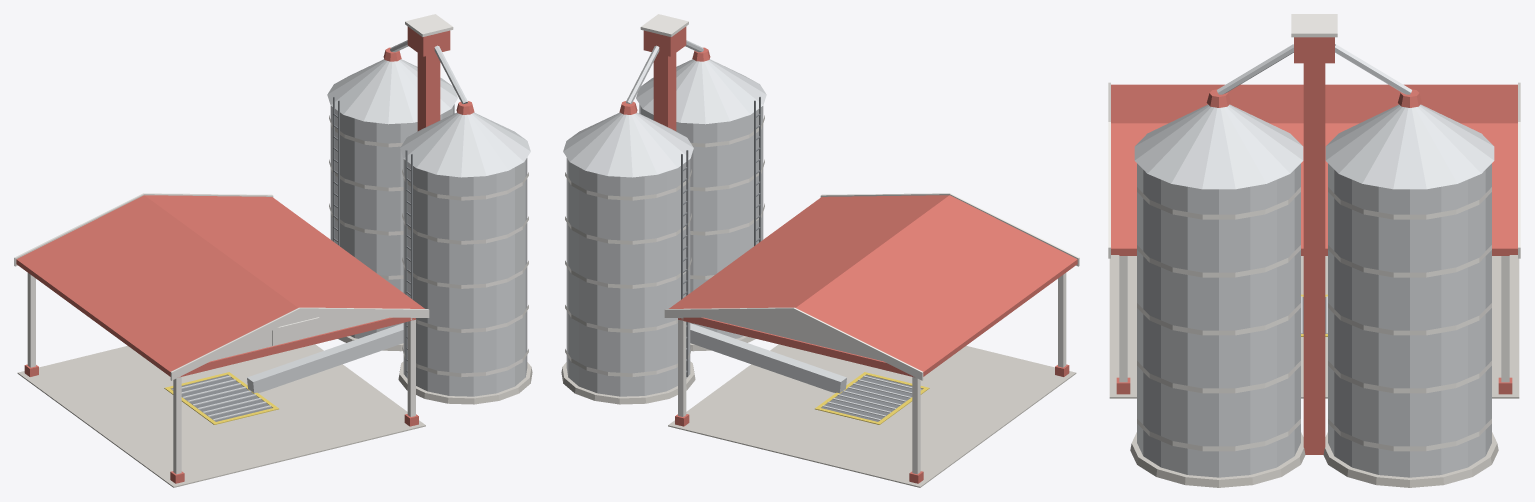
The model's file is silo.glb.
The picture shows the model from 3 angles, left to right: view 1: azimuth 30°, elevation 25°; view 2: azimuth 150°, elevation 25°; view 3: azimuth 270°, elevation 25°; orthographic projection. The views are drawn at different scales.
Visible parts, largest first — view 1: roof, pad, bin_B, bin_A, cone_B, cone_A, fascia, conveyor, bands_B, posts, pit, beams (+11 smaller); view 2: roof, pad, bin_A, bin_B, cone_A, cone_B, fascia, conveyor, bands_A, posts, gables, pit (+10 smaller); view 3: bin_A, bin_B, roof, cone_A, cone_B, leg, pad, bands_A, bands_B, posts, foundation_A, foundation_B (+6 smaller).
Part boxes in pixels (left/top/right/bottom): roof: left=16, top=195, right=424, bottom=376; pad: left=17, top=344, right=425, bottom=487; bin_B: left=403, top=158, right=527, bottom=396; bin_A: left=330, top=104, right=454, bottom=338; cone_B: left=400, top=112, right=530, bottom=177; cone_A: left=327, top=59, right=457, bottom=124; fascia: left=14, top=193, right=429, bottom=380; conveyor: left=247, top=323, right=403, bottom=393; bands_B: left=402, top=169, right=528, bottom=377; posts: left=27, top=273, right=415, bottom=474; pit: left=171, top=375, right=272, bottom=421; beams: left=179, top=317, right=415, bottom=377; roof: left=669, top=195, right=1077, bottom=376; pad: left=668, top=344, right=1076, bottom=487; bin_A: left=566, top=158, right=690, bottom=396; bin_B: left=639, top=104, right=763, bottom=338; cone_A: left=563, top=112, right=693, bottom=177; cone_B: left=636, top=59, right=766, bottom=124; fascia: left=664, top=193, right=1079, bottom=380; conveyor: left=690, top=323, right=846, bottom=393; bands_A: left=565, top=169, right=691, bottom=377; posts: left=678, top=273, right=1066, bottom=474; gables: left=705, top=316, right=881, bottom=360; pit: left=821, top=375, right=922, bottom=421; bin_A: left=1328, top=163, right=1491, bottom=477; bin_B: left=1137, top=163, right=1300, bottom=477; roof: left=1111, top=84, right=1517, bottom=254; cone_A: left=1325, top=104, right=1494, bottom=189; cone_B: left=1134, top=104, right=1303, bottom=189; leg: left=1303, top=63, right=1325, bottom=454; pad: left=1109, top=255, right=1519, bottom=398; bands_A: left=1328, top=187, right=1491, bottom=451; bands_B: left=1137, top=187, right=1300, bottom=451; posts: left=1119, top=256, right=1509, bottom=382; foundation_A: left=1323, top=432, right=1498, bottom=487; foundation_B: left=1130, top=432, right=1305, bottom=487.
Bounding box in the file's own units: 21.9 × 17.25 × 15.1.
